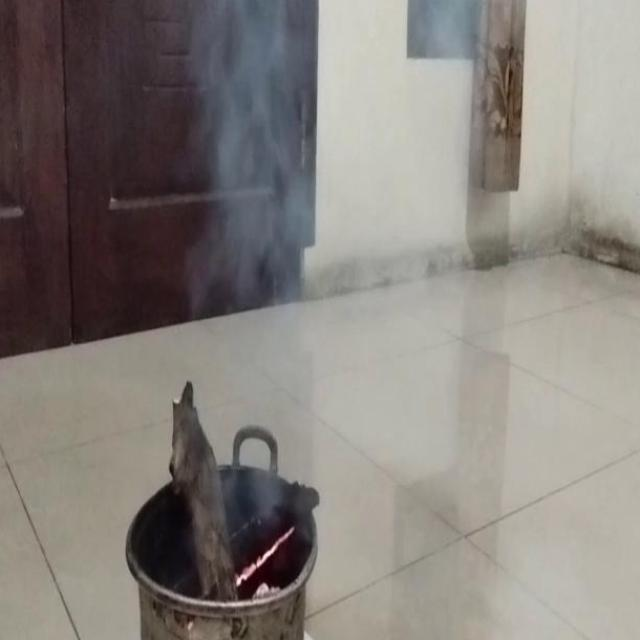fire: (210, 0, 304, 277)
